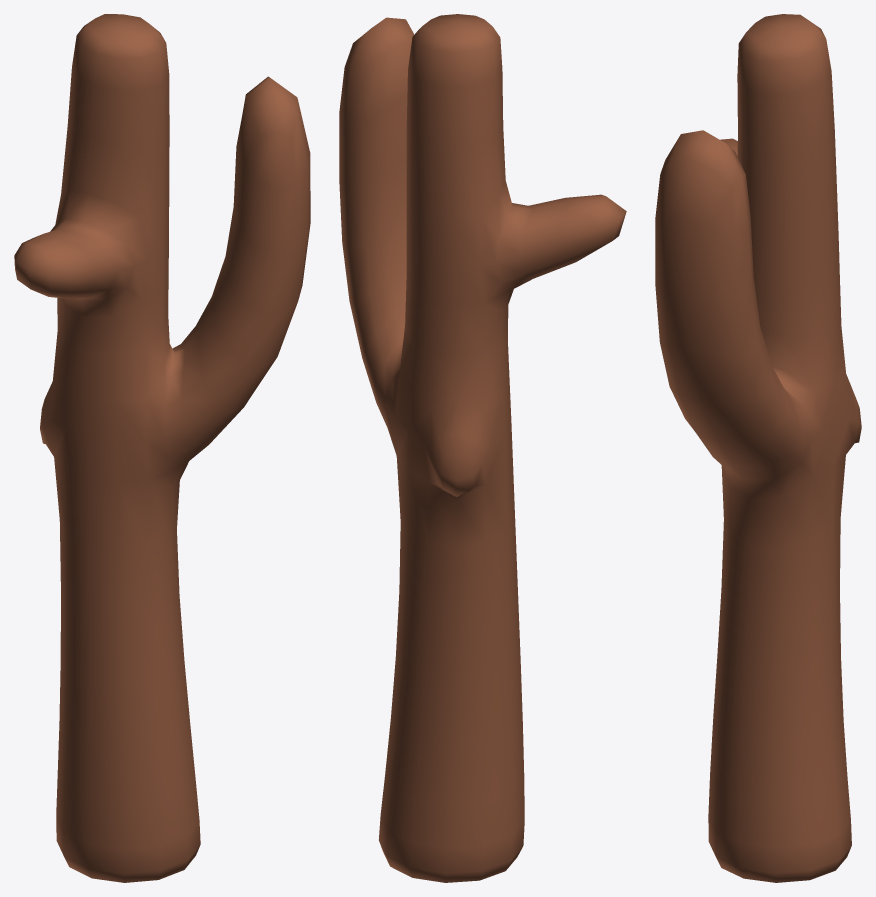
File: Tree_Btm_D_03.fbx
3 views of the same model, side by side, from view 1: azimuth 30°, elevation 25°; view 2: azimuth 150°, elevation 25°; view 3: azimuth 270°, elevation 25° (orthographic).
Visible parts, largest first — view 1: Tree_Btm_D_03_LOD0; view 2: Tree_Btm_D_03_LOD0; view 3: Tree_Btm_D_03_LOD0.
Boxes of the visible parts, x1,y1,x2,y2 form: Tree_Btm_D_03_LOD0: [14, 14, 310, 882]; Tree_Btm_D_03_LOD0: [339, 14, 626, 882]; Tree_Btm_D_03_LOD0: [655, 14, 861, 882].
Size of what is drawn, in the model's own units: 331 by 945 by 213.
